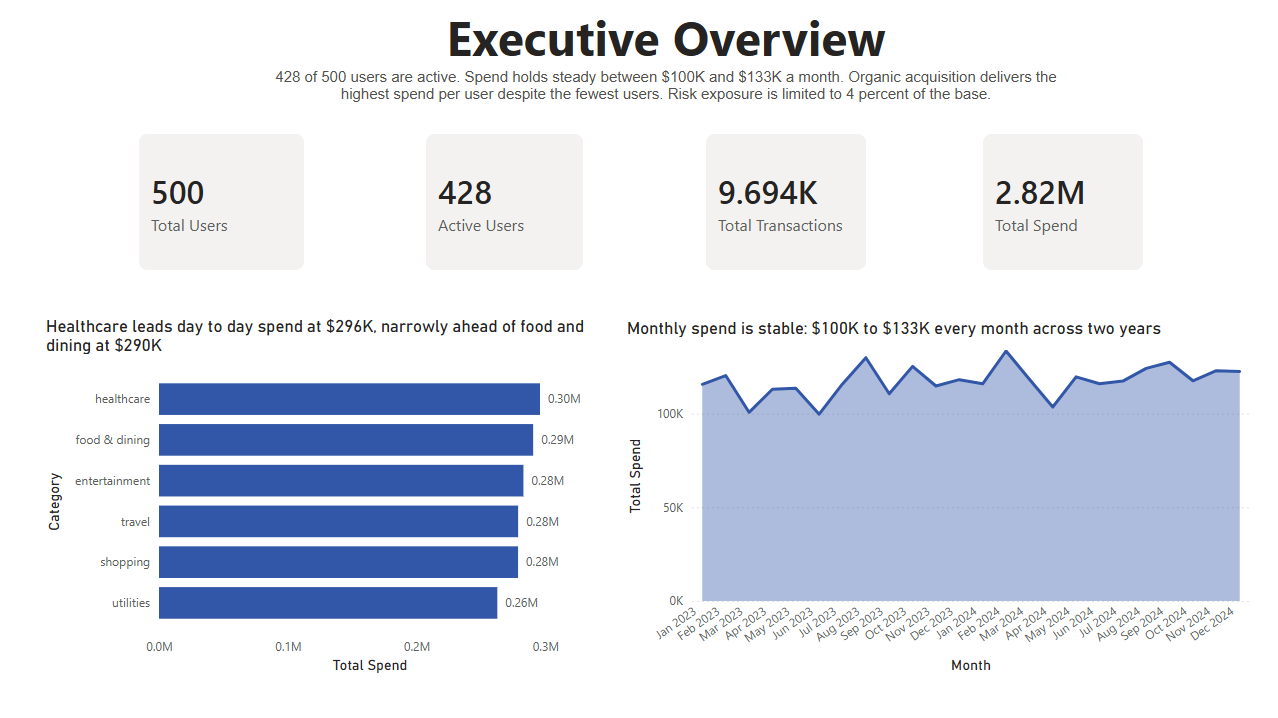

The page's visual inventory and layout, read from the dashboard file:
{"tool":"powerbi","page":{"name":"Executive Overview","canvas":[1280,720],"ordinal":0},"visuals":[{"type":"cardVisual","fields":{"Data":["Count(dim_users.user_id)"]},"box":[123.1,118.2,199.2,170],"z":0},{"type":"cardVisual","fields":{"Data":["Count(fct_transactions.transaction_id)"]},"box":[689.8,118.2,194.3,170],"z":1000},{"type":"cardVisual","fields":{"Data":["fct_transactions.Total Spend"]},"box":[966.7,118.2,194.3,170],"z":2000},{"type":"cardVisual","fields":{"Data":["Sum(dim_users.is_active)"]},"box":[409.7,118.2,191.1,170],"z":3000},{"type":"clusteredBarChart","title":"Healthcare leads day to day spend at $296K, narrowly ahead of food and dining at $290K","fields":{"Category":["fct_transactions.category"],"Y":["fct_transactions.Total Spend"]},"box":[41.8,317.1,559.3,361.8],"z":4000},{"type":"lineChart","title":"Monthly spend is stable: $100K to $133K every month across two years","fields":{"Y":["fct_transactions.Total Spend"],"Category":["Date.MonthLabel"]},"box":[623.5,319,631.2,359.9],"z":5000},{"type":"textbox","box":[269.8,0,794.4,129.9],"z":6000}]}

Visuals, with their boxes in screenshot pixels (x1, y1, x2, y2), scaled from the page's 1280x720 canvas onto the 1278x718 screenshot:
cardVisual - Count(dim_users.user_id): (123, 118, 322, 287)
cardVisual - Count(fct_transactions.transaction_id): (689, 118, 883, 287)
cardVisual - fct_transactions.Total Spend: (965, 118, 1159, 287)
cardVisual - Sum(dim_users.is_active): (409, 118, 600, 287)
"Healthcare leads day to day spend at $296K, narrowly ahead of food and dining at $290K" clusteredBarChart: (42, 316, 600, 677)
"Monthly spend is stable: $100K to $133K every month across two years" lineChart: (623, 318, 1253, 677)
textbox: (269, 0, 1063, 130)
